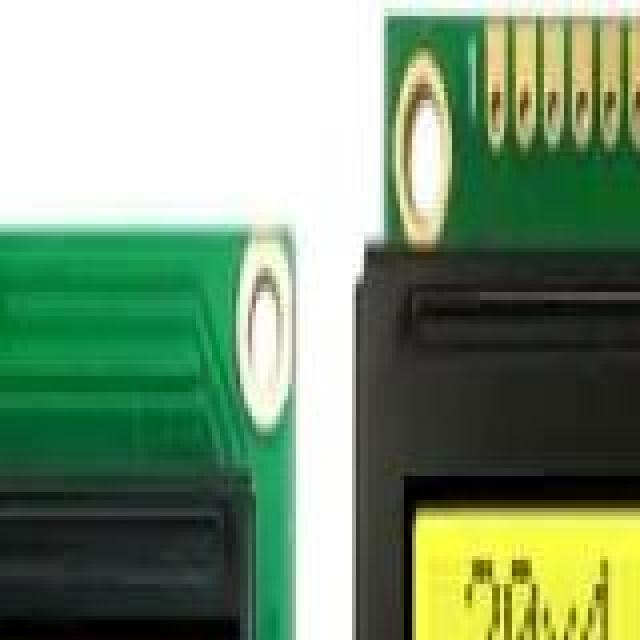display: (356, 216, 640, 640), (0, 468, 264, 640)
